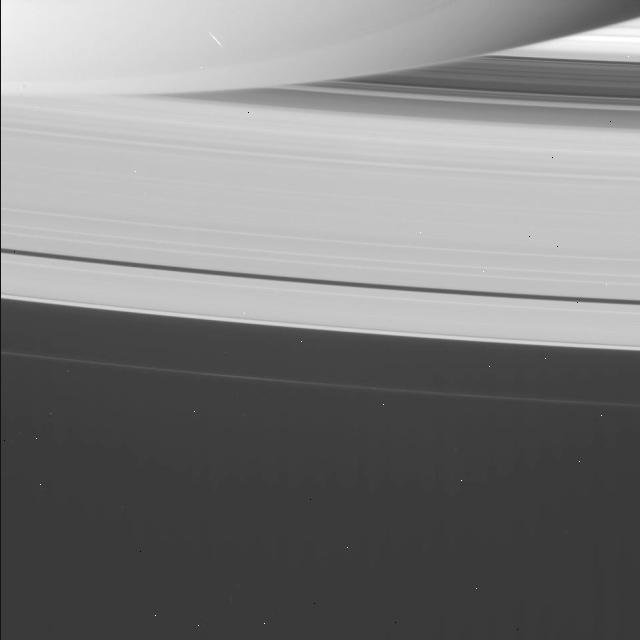Saturn: (0, 1, 640, 414)
